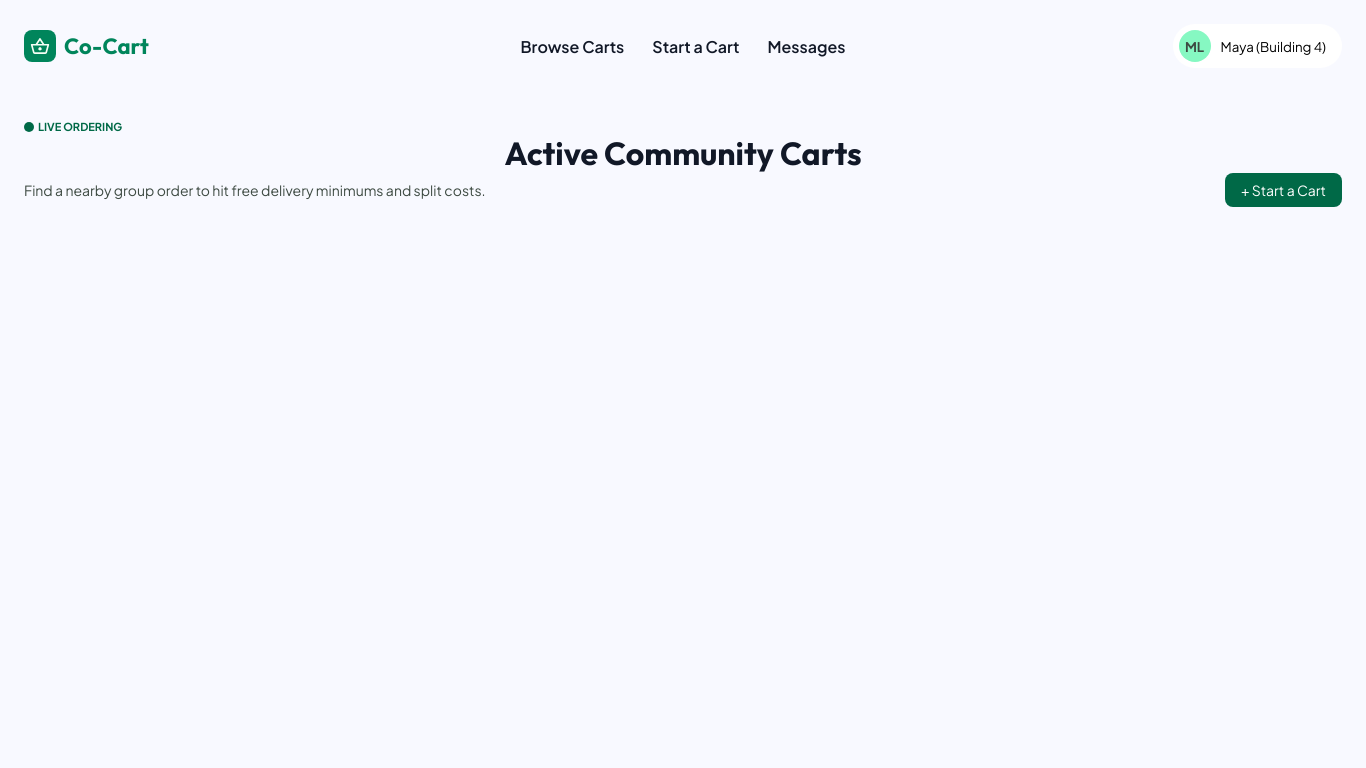
Test: dashboard messages link opens a chat that can send messages
The width and height of the screenshot is (1366, 768).
Click the link "Messages" at (806, 46), box [768,36,845,56]
(page scrolled)
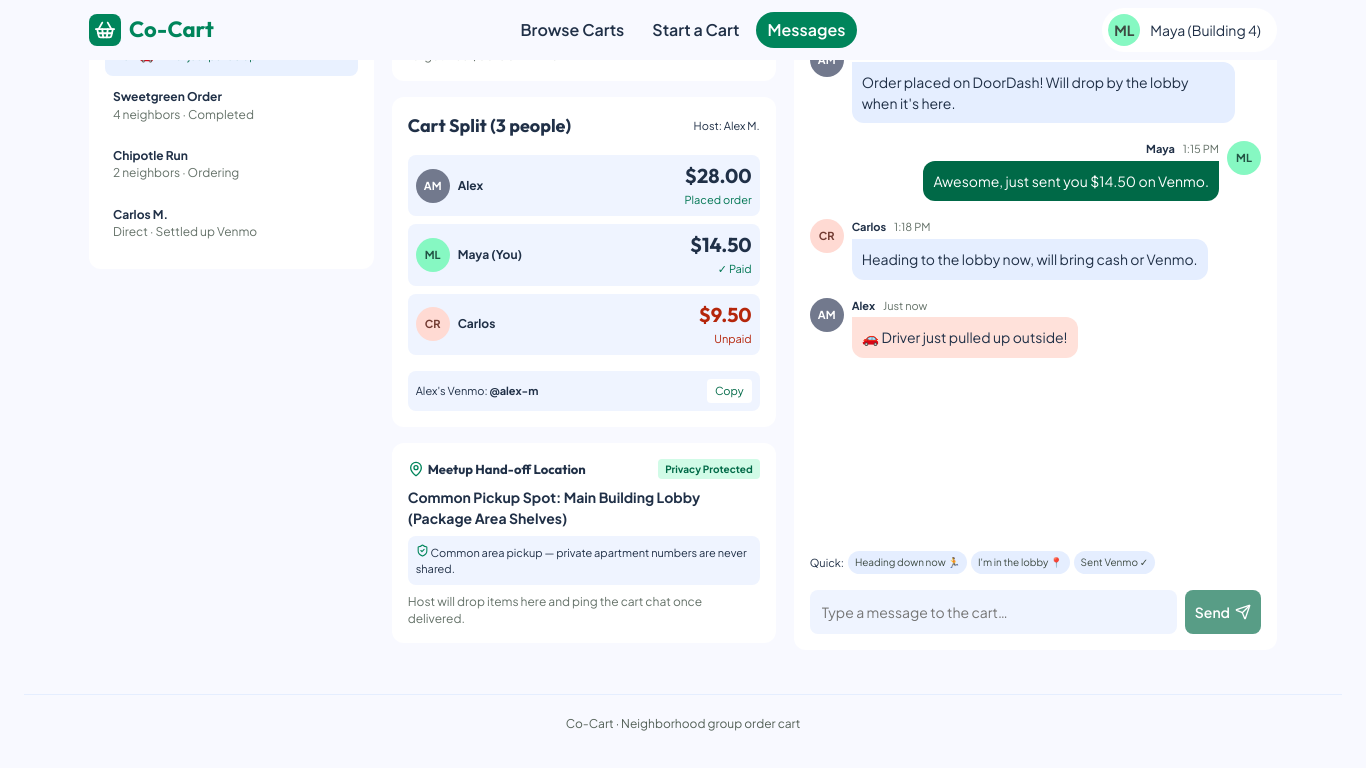
Check: the button "Send" is disabled, box [1185,590,1261,634]
Type "  Heading down!  " into the field labelled "message" at (993, 612), box [810,590,1177,634]
Then press Enter
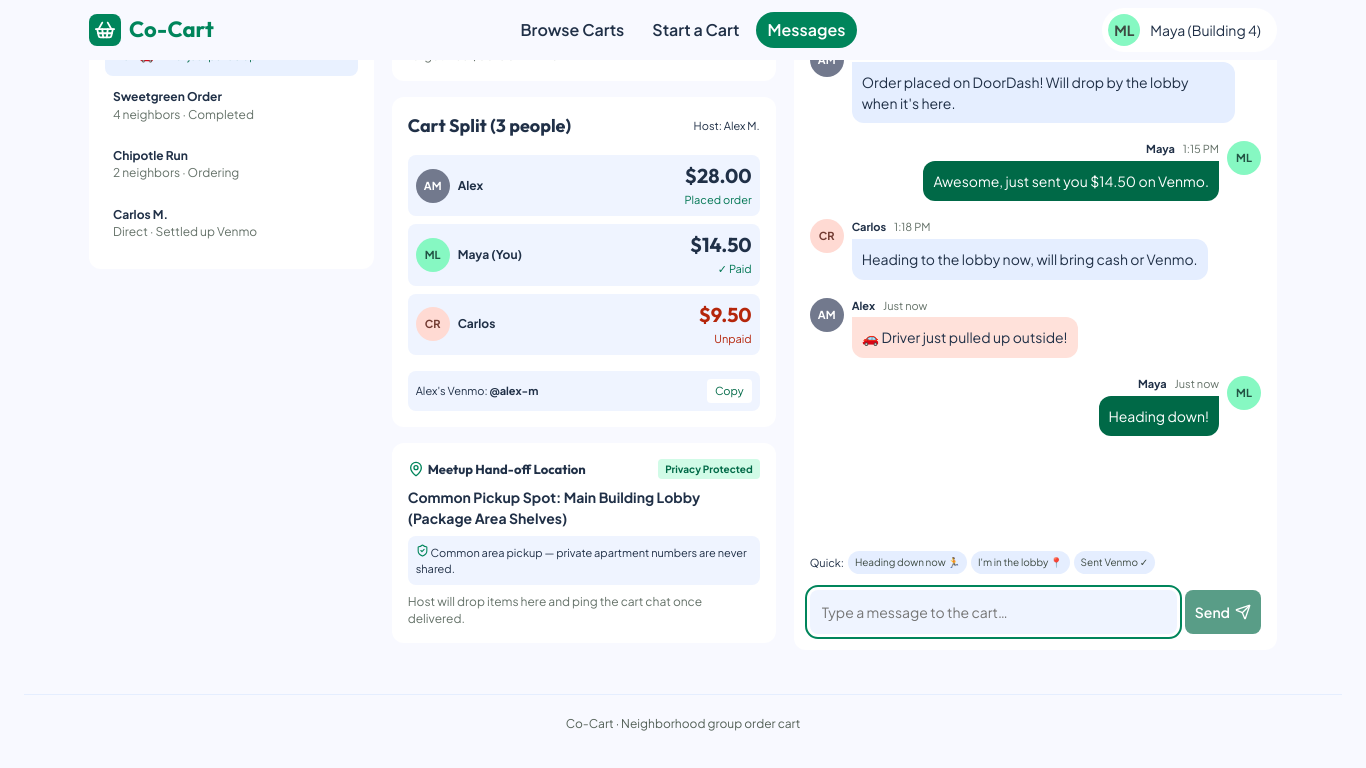
Check: the field labelled "message" is empty, box [810,590,1177,634]
Check: the text "Heading down!" is shown, box [1108,407,1209,425]
Click the button "Sent Venmo ✓" at (1114, 562), box [1074,551,1155,574]
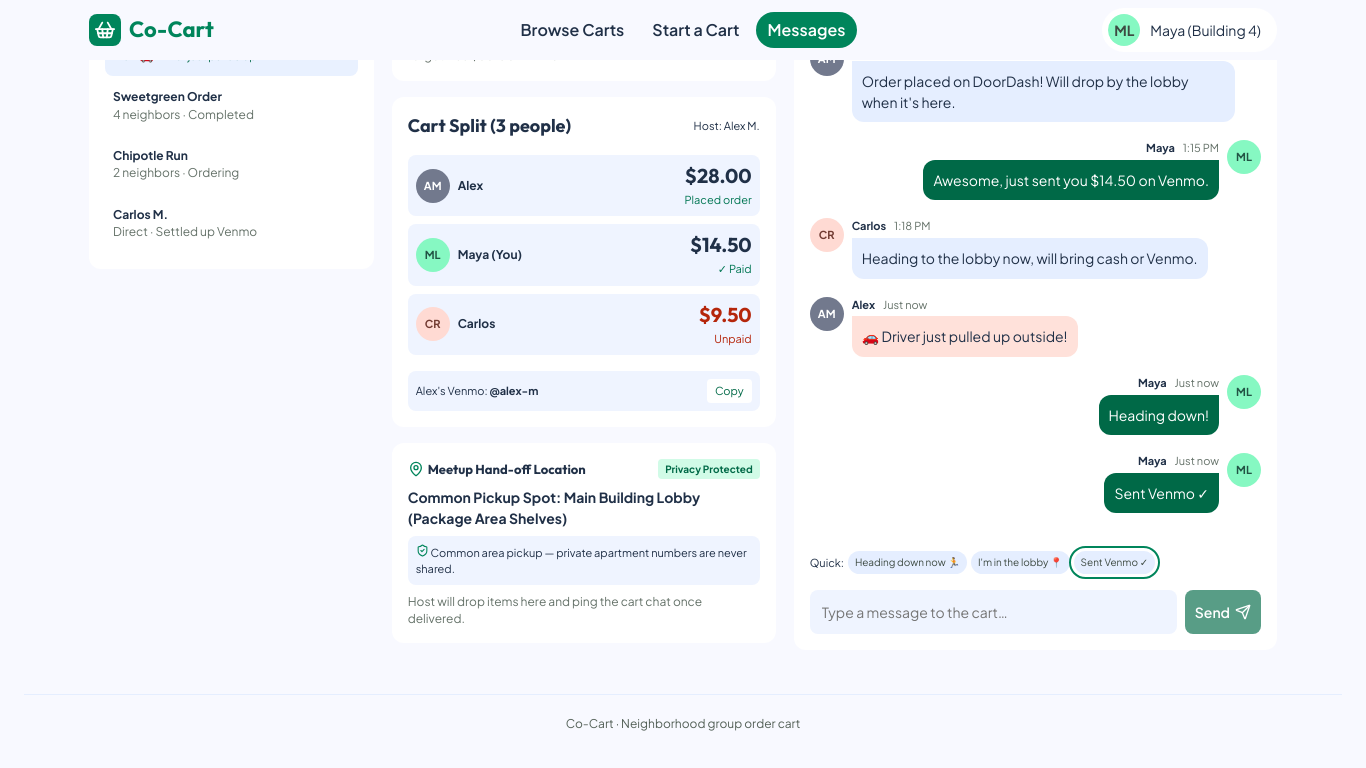
Check: the text "Sent Venmo ✓" is shown, box [1114,484,1209,502]
